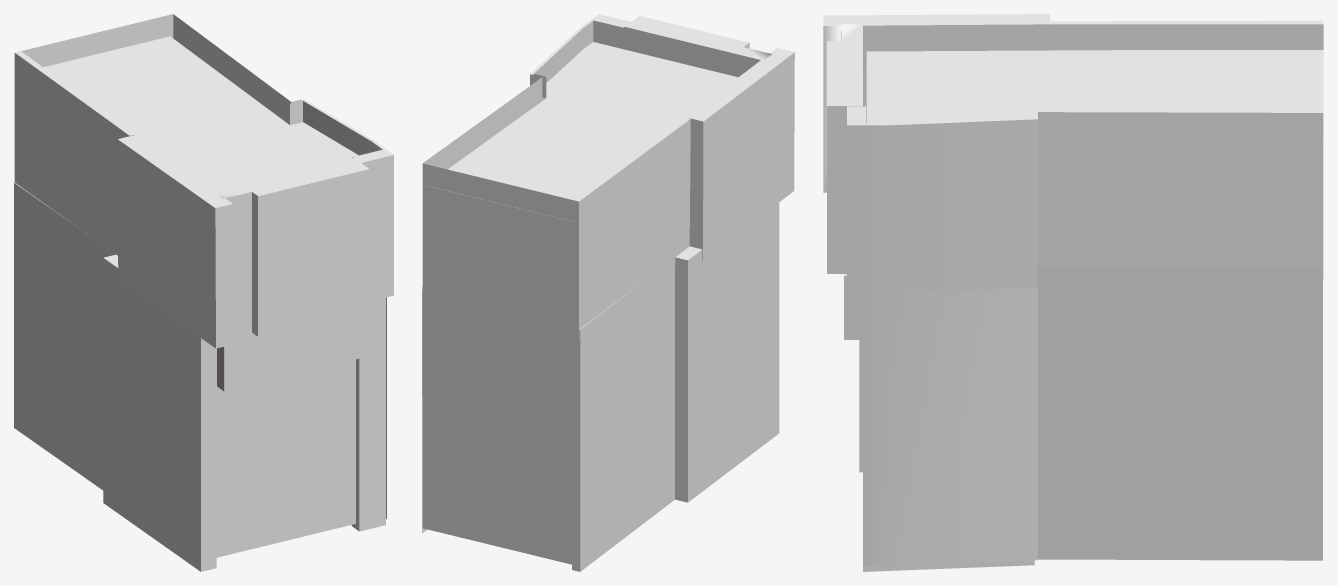
3 renders of one model, left to right at view 1: azimuth 30°, elevation 25°; view 2: azimuth 150°, elevation 25°; view 3: azimuth 270°, elevation 25°, orthographic. The views are drawn at different scales.
Parts seen in each view (by area): view 1: 5b17946ee9418622645b9349.001; view 2: 5b17946ee9418622645b9349.001; view 3: 5b17946ee9418622645b9349.001.
Boxes of the visible parts, box(x1,y1,x2,y2) form: 5b17946ee9418622645b9349.001: box(14, 14, 393, 571); 5b17946ee9418622645b9349.001: box(422, 14, 794, 571); 5b17946ee9418622645b9349.001: box(823, 14, 1323, 571).
Size of the model in its own units: 5.39 by 10.12 by 10.26.
1 material, 1 textured.
